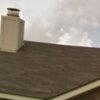Chimney: (2, 5, 28, 54)
